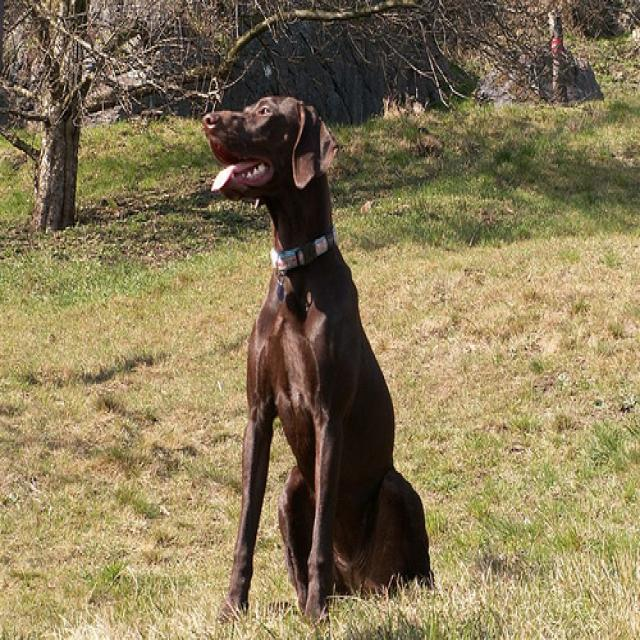dog: (200, 94, 336, 196)
